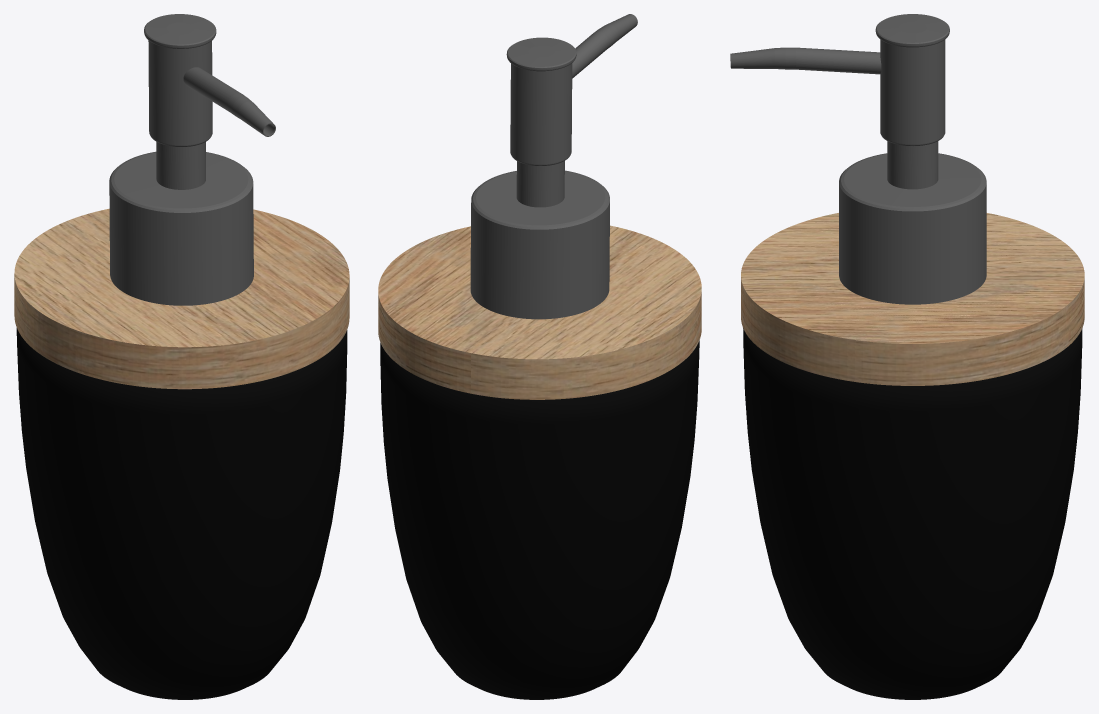
File: Soap Dispenser.fbx
The picture shows the model from 3 angles, left to right: view 1: azimuth 30°, elevation 25°; view 2: azimuth 150°, elevation 25°; view 3: azimuth 270°, elevation 25°; orthographic projection. The views are drawn at different scales.
Parts seen in each view (by area): view 1: Cylinder; view 2: Cylinder; view 3: Cylinder.
Part boxes in pixels (x1,y1,x2,y2): Cylinder: (14,14,349,699); Cylinder: (378,14,701,699); Cylinder: (730,14,1084,699).
Size of the model in its own units: 3.86 by 8.26 by 4.12.
3 materials, 1 textured.
